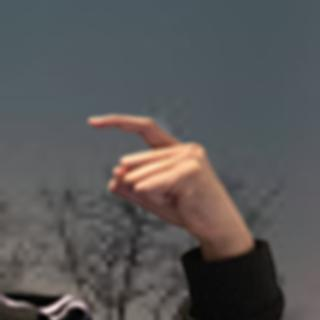WHY: (80, 106, 249, 250)
